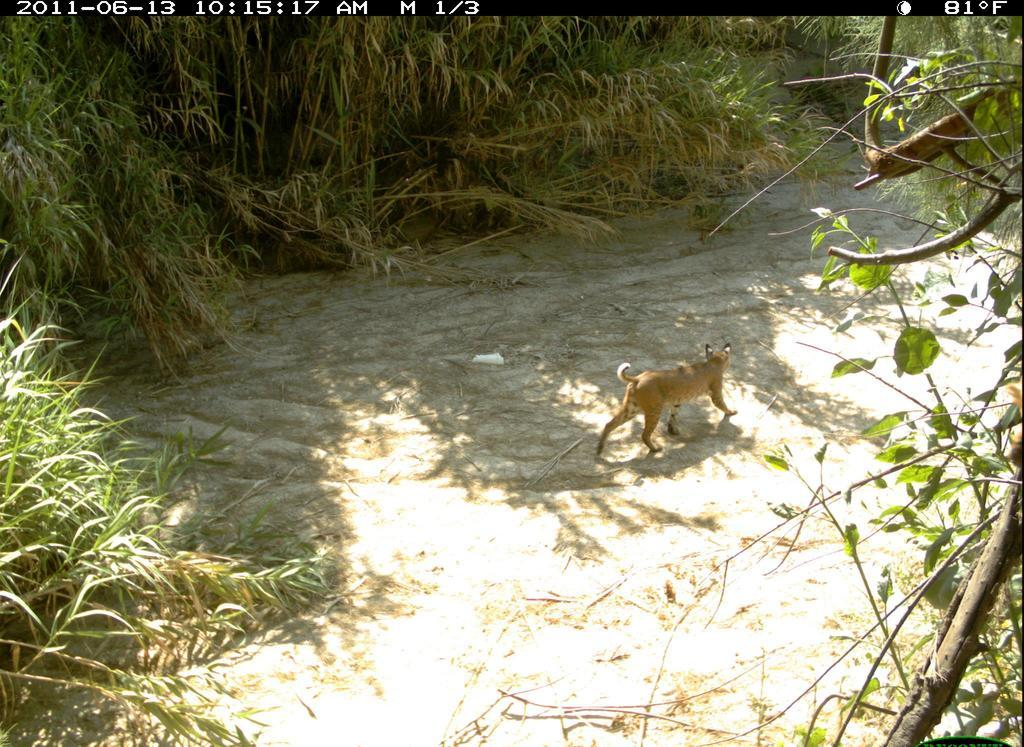bobcat: (592, 337, 742, 465)
